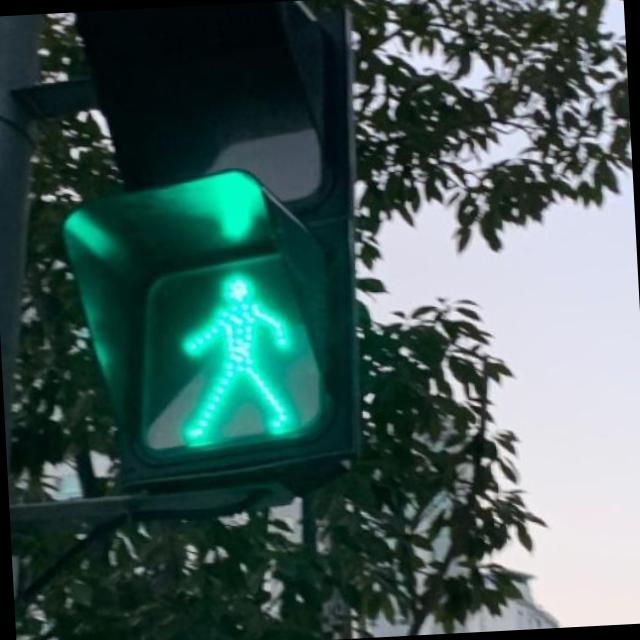green_light: (144, 256, 314, 452)
